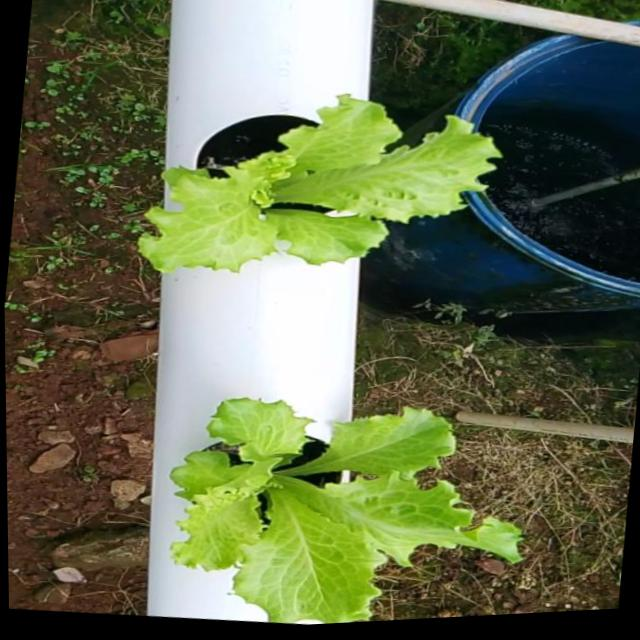Baby: (176, 379, 530, 612), (150, 67, 521, 248)
